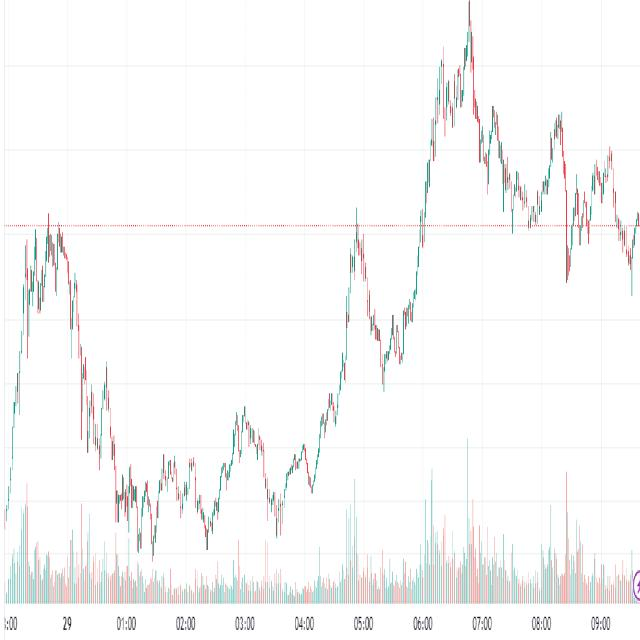Double-Bottom: (377, 294, 410, 395)
Inverse-Head-Shoulders: (192, 441, 226, 559)
Rounding-Bottom: (52, 274, 364, 564)
